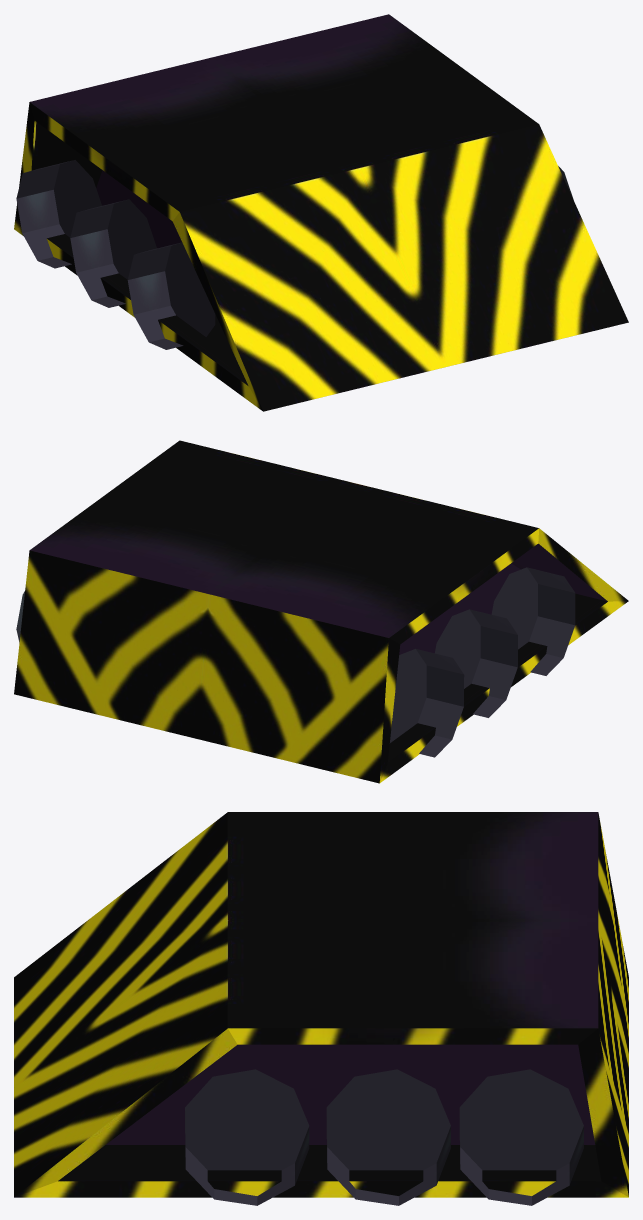
File: wheels_1.glb
3 views of the same model, one above another, from view 1: azimuth 30°, elevation 25°; view 2: azimuth 150°, elevation 25°; view 3: azimuth 270°, elevation 25° (orthographic). The views are drawn at different scales.
Parts seen in each view (by area): view 1: Cube, Cylinder, Cylinder.001, Cylinder.002; view 2: Cube, Cylinder.002, Cylinder, Cylinder.001; view 3: Cube, Cylinder, Cylinder.002, Cylinder.001.
Part boxes in pixels (bbox=[...]): Cube: bbox=[14, 14, 628, 411]; Cylinder: bbox=[127, 166, 573, 349]; Cylinder.001: bbox=[70, 199, 156, 307]; Cylinder.002: bbox=[16, 160, 101, 268]; Cube: bbox=[14, 440, 628, 783]; Cylinder.002: bbox=[16, 591, 464, 757]; Cylinder: bbox=[491, 567, 575, 675]; Cylinder.001: bbox=[435, 609, 517, 717]; Cube: bbox=[14, 812, 628, 1197]; Cylinder: bbox=[185, 1069, 309, 1205]; Cylinder.002: bbox=[459, 1069, 583, 1205]; Cylinder.001: bbox=[326, 1069, 450, 1205].
Size of the model in its own units: 1.38 by 0.45 by 1.5.
2 materials, 2 textured.
